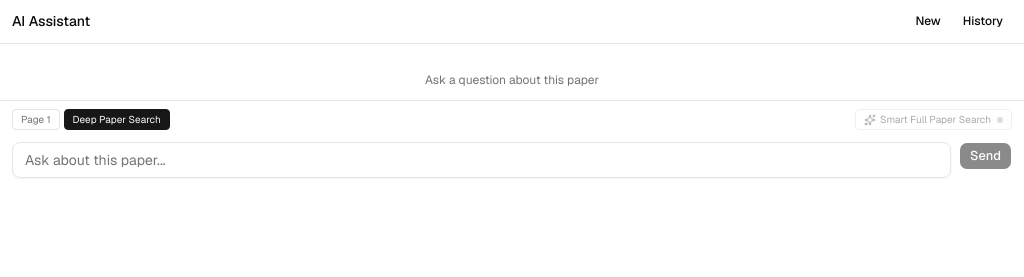
Test: ChatPanel /highlight slash command › routes /highlight ... to auto-highlight endpoint, shows progress, finalizes on done
The width and height of the screenshot is (1024, 277).
Type "/highlight the loss function" into the field with placeholder "Ask about this paper..." at x=482, y=160, box [12,142,951,178]
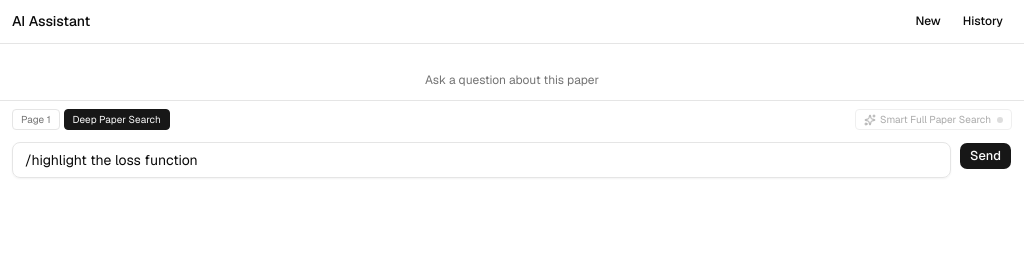
Submit the form with placeholder "ask about this paper", box [0,130,1023,190]
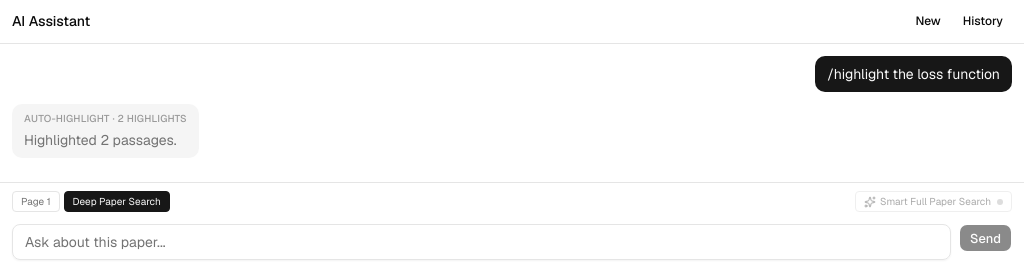
Result: the text "Highlighted 2 passages." is shown at [24,130,187,150]
Result: the text "/highlight the loss function" is shown at [827,64,1000,84]
